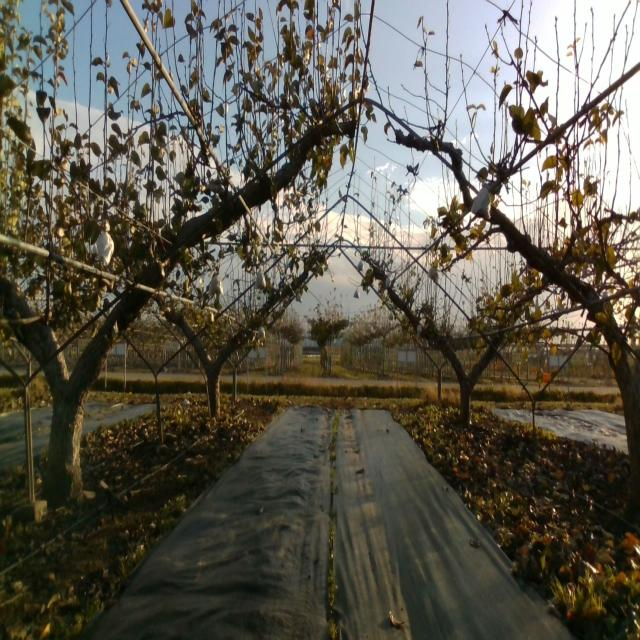pearbags: (95, 218, 115, 263), (470, 183, 492, 220), (208, 270, 224, 293), (254, 267, 266, 291)
